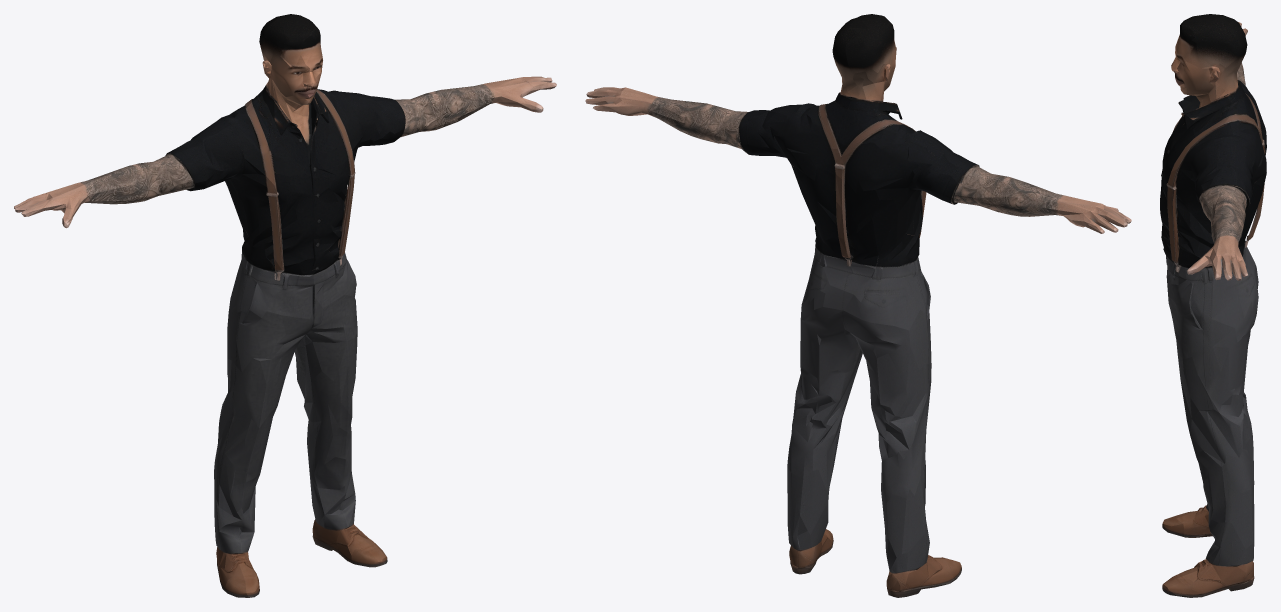
Rendered from image3d.glb.
The picture shows the model from 3 angles, left to right: view 1: azimuth 30°, elevation 25°; view 2: azimuth 150°, elevation 25°; view 3: azimuth 270°, elevation 25°; orthographic projection.
Size of the model in its own units: 1.9 by 1.85 by 0.3297.
Materials: 1 (1 with a texture image).
